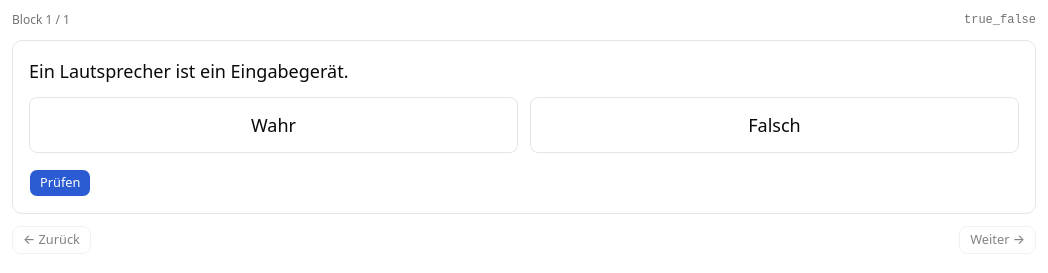
Test: LivePreview › zeigt nach Prüfen ohne Antwort ein Falsch-Ergebnis + Zurücksetzen
Click the button "Prüfen". click: coordinates (60, 183)
box: [29,169,92,197]
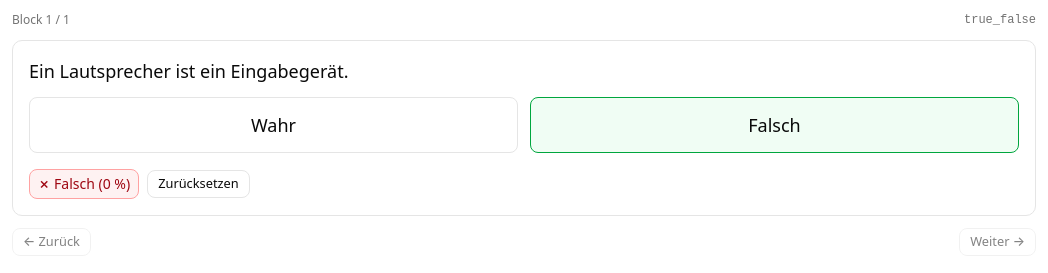
expect the text "✗ Falsch (0 %)" is shown: met, box [29,169,139,199]
expect the button "Zurücksetzen" is shown: met, box [147,170,250,198]
